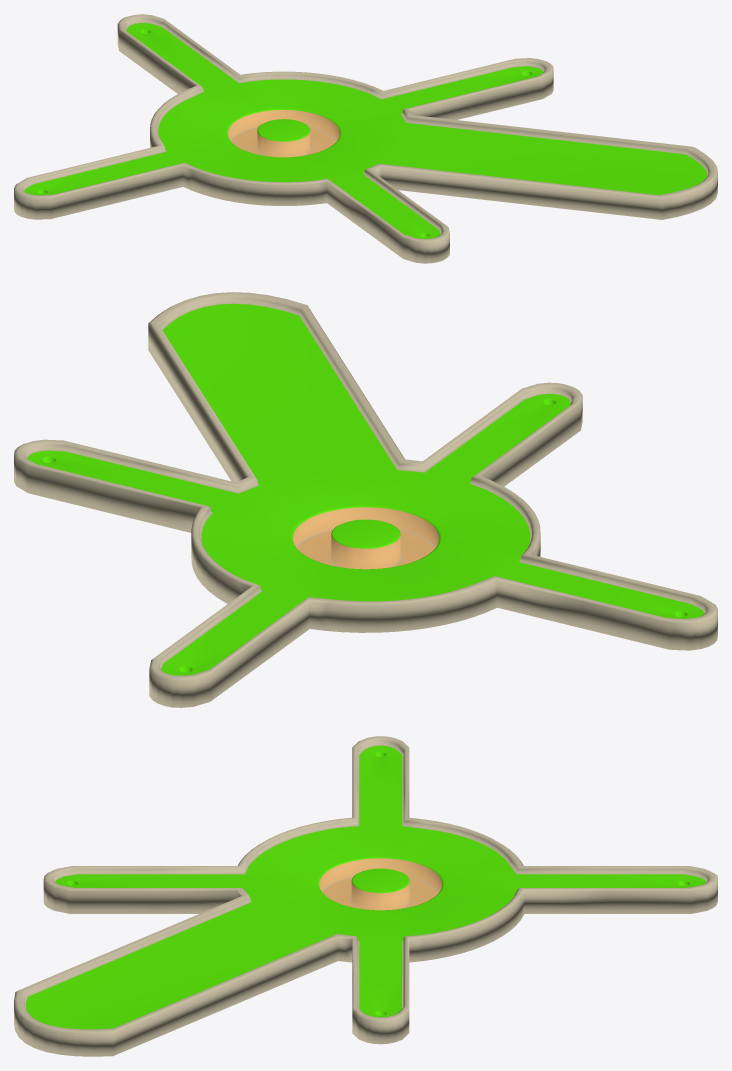
The model's file is Course 1_Separated.fbx.
3 views of the same model, one above another, from view 1: azimuth 30°, elevation 25°; view 2: azimuth 150°, elevation 25°; view 3: azimuth 270°, elevation 25° (orthographic). The views are drawn at different scales.
Visible parts, largest first — view 1: Course_Greens, Course_Border; view 2: Course_Greens, Course_Border; view 3: Course_Greens, Course_Border.
Boxes of the visible parts, bbox=[...] form: Course_Greens: bbox=[24, 23, 707, 238]; Course_Border: bbox=[14, 14, 717, 263]; Course_Greens: bbox=[27, 303, 704, 675]; Course_Border: bbox=[14, 292, 717, 707]; Course_Greens: bbox=[26, 745, 706, 1029]; Course_Border: bbox=[14, 736, 717, 1056].
Size of the model in its own units: 480 by 18.45 by 480.
